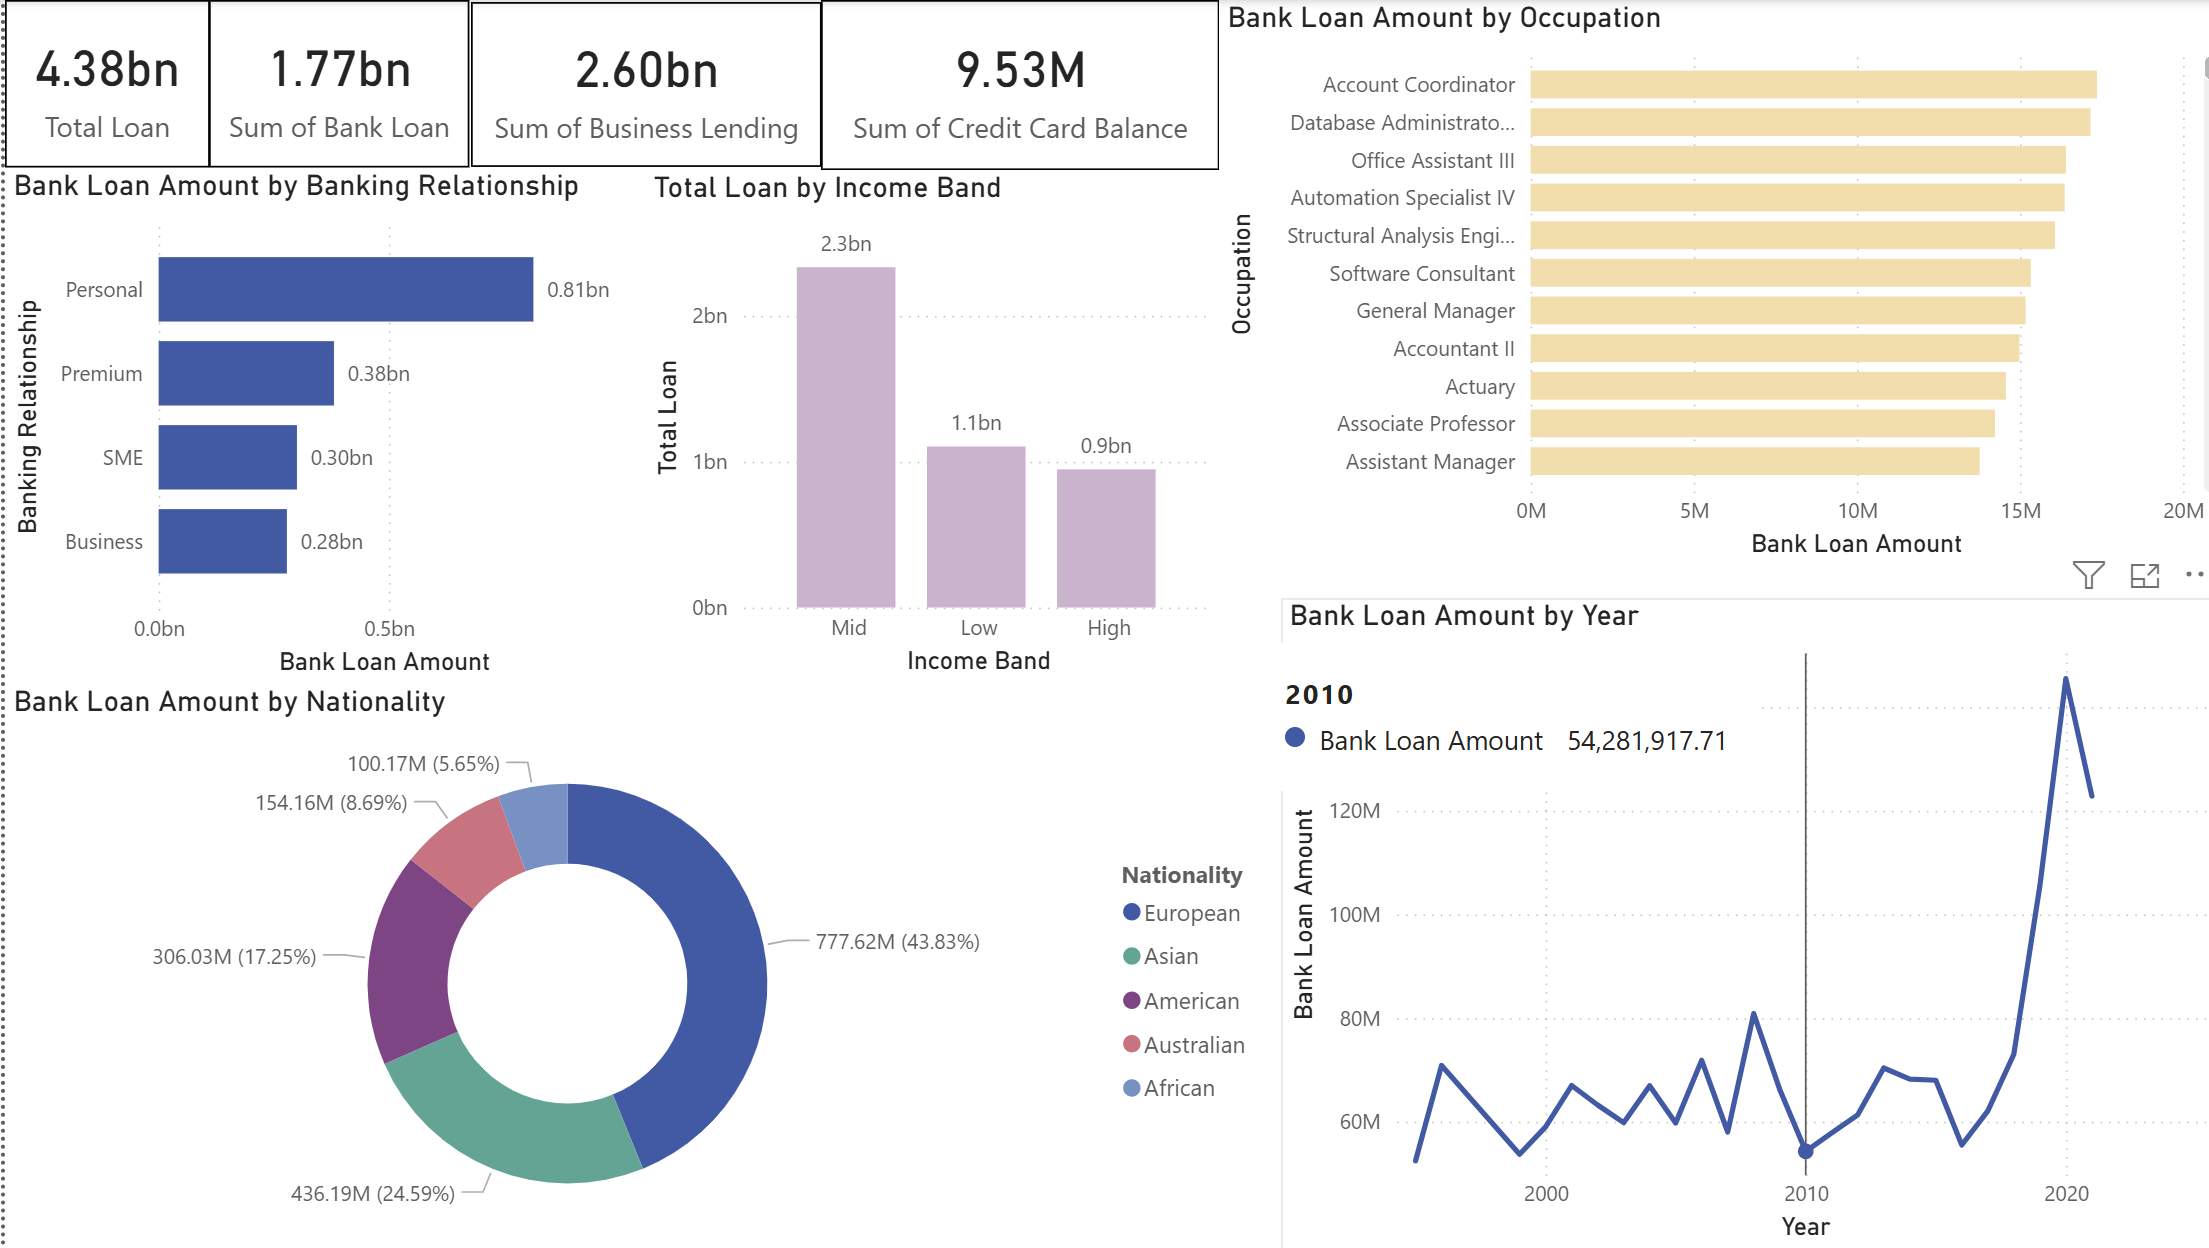

The page's visual inventory and layout, read from the dashboard file:
{"tool":"powerbi","page":{"name":"Loan Analysis","canvas":[1280,720],"ordinal":1},"visuals":[{"type":"card","fields":{"Values":["Banking.Total Loan"]},"box":[0,0,117.9,96.5],"z":0},{"type":"card","fields":{"Values":["Sum(Banking.Bank Loan)"]},"box":[117.9,0,150,96.5],"z":1000},{"type":"card","fields":{"Values":["Sum(Banking.Business Lending)"]},"box":[267.9,1.5,202.1,94.9],"z":2000},{"type":"card","fields":{"Values":["Sum(Banking.Credit Card Balance)"]},"box":[470,0,229.7,98],"z":3000},{"type":"clusteredBarChart","fields":{"Category":["Banking.Banking Relationship"],"Y":["Banking.Bank Loan Amount"]},"box":[0,96.5,369,297],"z":4000},{"type":"donutChart","fields":{"Category":["Banking.Nationality"],"Y":["Banking.Bank Loan Amount"]},"box":[0,393.5,734.9,326.1],"z":5000},{"type":"clusteredColumnChart","fields":{"Category":["Banking.Income Band"],"Y":["Banking.Total Loan"]},"box":[369,98,332.2,295.5],"z":6000},{"type":"clusteredBarChart","fields":{"Category":["Banking.Occupation"],"Y":["Banking.Bank Loan Amount"]},"box":[699.7,0,580.3,326.1],"z":7000},{"type":"lineChart","fields":{"Category":["Banking.Year"],"Y":["Banking.Bank Loan Amount"]},"box":[735,345,545,375],"z":8000}]}

Visuals, with their boxes in screenshot pixels (x1, y1, x2, y2), scaled from the page's 1280x720 canvas onto the 2209x1248 screenshot:
card - Banking.Total Loan: box=[0, 0, 203, 167]
card - Sum(Banking.Bank Loan): box=[203, 0, 462, 167]
card - Sum(Banking.Business Lending): box=[462, 3, 811, 167]
card - Sum(Banking.Credit Card Balance): box=[811, 0, 1208, 170]
clusteredBarChart - Banking.Banking Relationship x Banking.Bank Loan Amount: box=[0, 167, 637, 682]
donutChart - Banking.Nationality x Banking.Bank Loan Amount: box=[0, 682, 1268, 1247]
clusteredColumnChart - Banking.Income Band x Banking.Total Loan: box=[637, 170, 1210, 682]
clusteredBarChart - Banking.Occupation x Banking.Bank Loan Amount: box=[1208, 0, 2208, 565]
lineChart - Banking.Year x Banking.Bank Loan Amount: box=[1268, 598, 2208, 1247]
